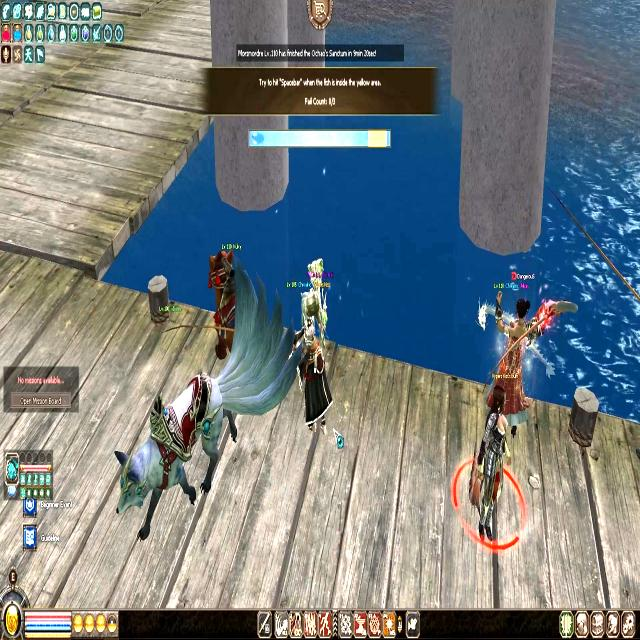fishes: (251, 132, 265, 146)
